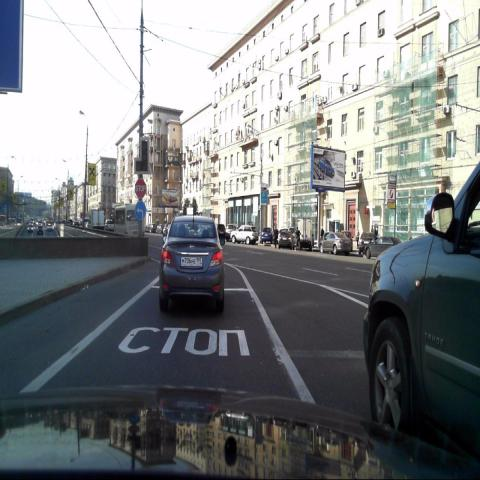2_5: (134, 178, 146, 199)
4_1_3: (134, 200, 146, 220)
